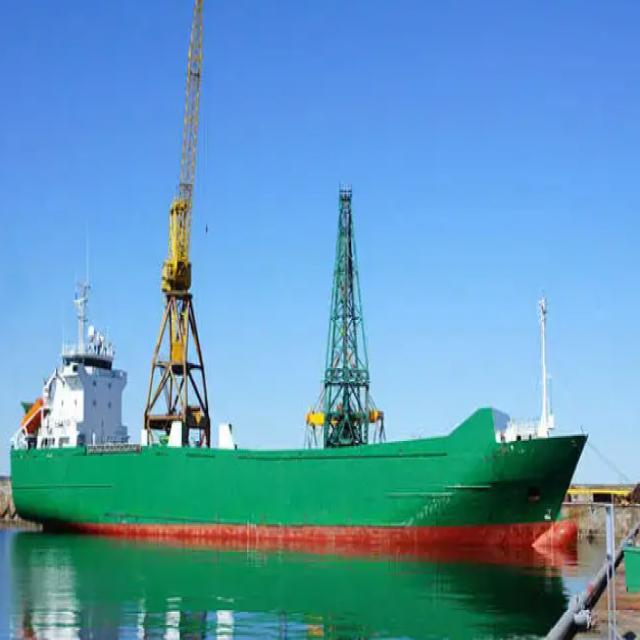cargoship: (10, 198, 589, 564)
